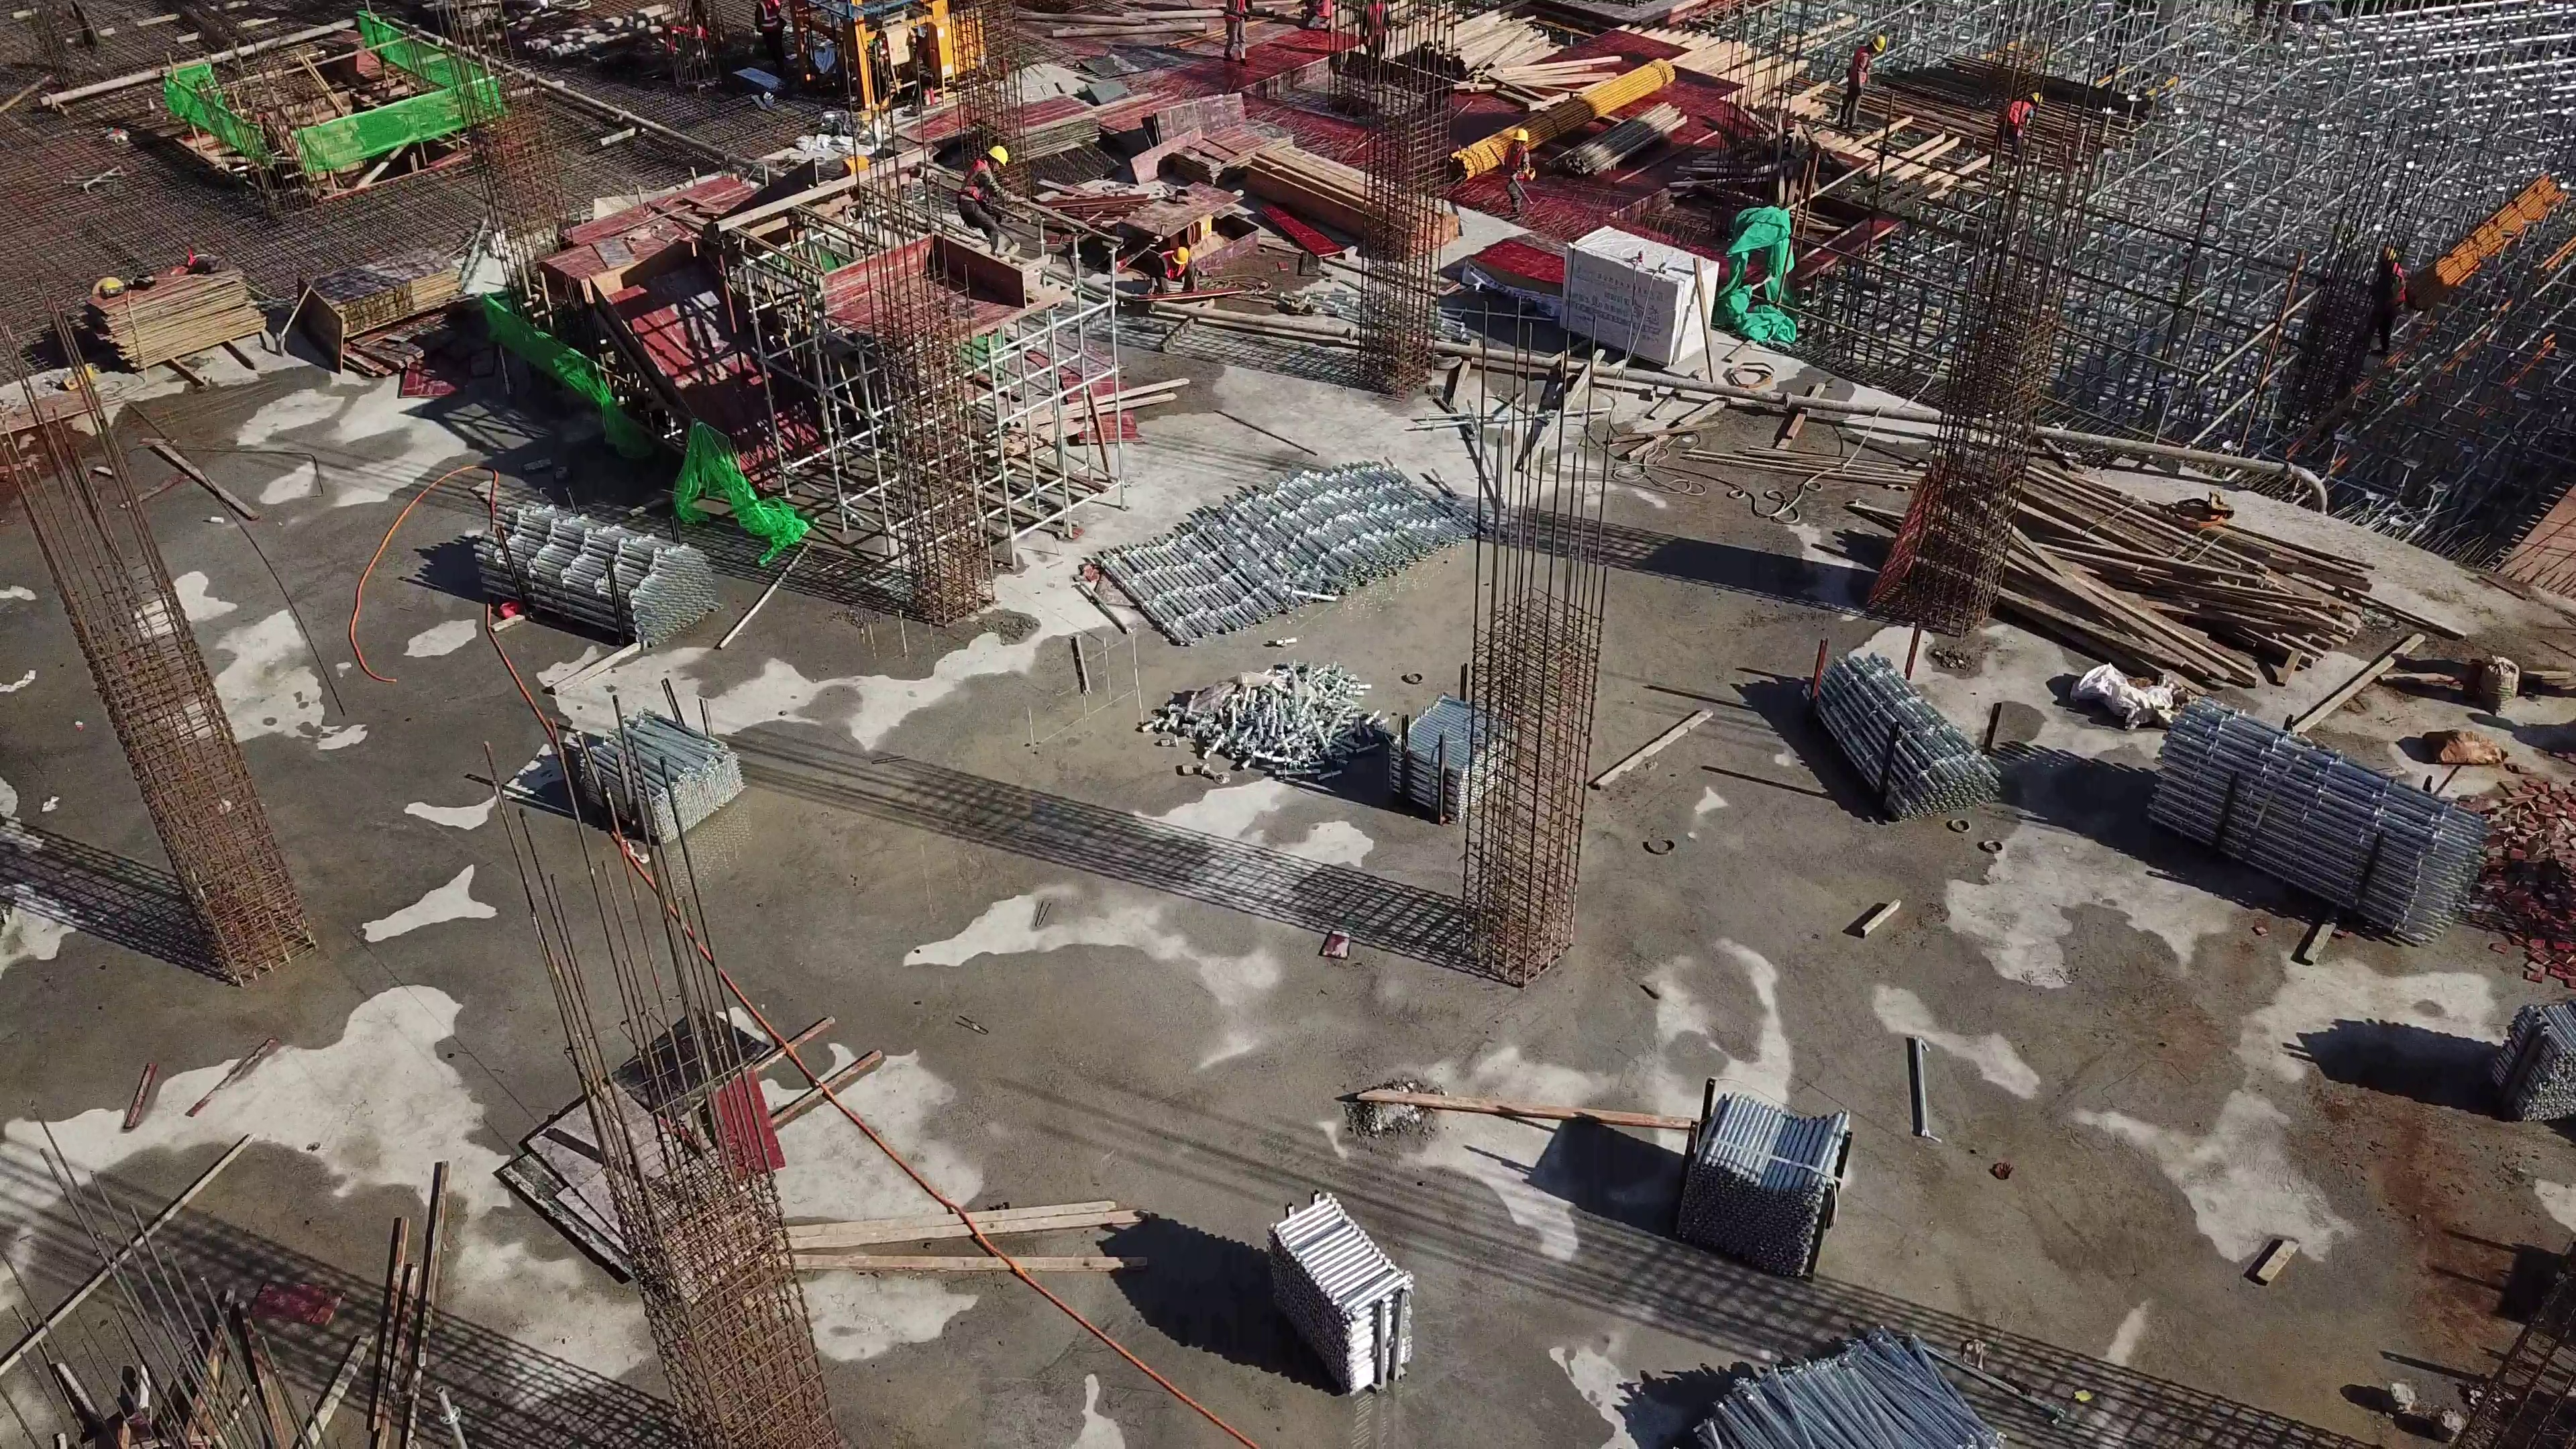board: (494, 1071, 788, 1304), (93, 259, 272, 374), (300, 246, 464, 329), (1175, 119, 1305, 186), (1020, 89, 1104, 152), (1139, 95, 1273, 131)
helmet: (987, 144, 1010, 168), (1173, 246, 1191, 266), (1869, 31, 1886, 50), (1513, 128, 1527, 143), (2033, 89, 2045, 106)
person: (1831, 23, 1900, 130), (961, 146, 1026, 254), (1987, 78, 2052, 145), (1499, 123, 1543, 221), (751, 1, 794, 72), (1217, 1, 1260, 60), (1154, 235, 1203, 286), (1366, 1, 1395, 52), (1299, 1, 1342, 32)
scaffold: (2147, 676, 2466, 946), (1123, 441, 1450, 637), (1693, 1315, 2017, 1449), (446, 484, 714, 633), (1665, 1095, 1874, 1271), (1811, 643, 1991, 827), (1274, 1192, 1406, 1389), (1397, 691, 1490, 819)
vest: (960, 159, 990, 203), (1844, 45, 1871, 89), (1998, 94, 2032, 128), (1505, 142, 1532, 179), (762, 1, 784, 33), (1310, 1, 1335, 19), (1161, 248, 1175, 278), (1229, 1, 1248, 23)
wood: (1941, 441, 2362, 691)
